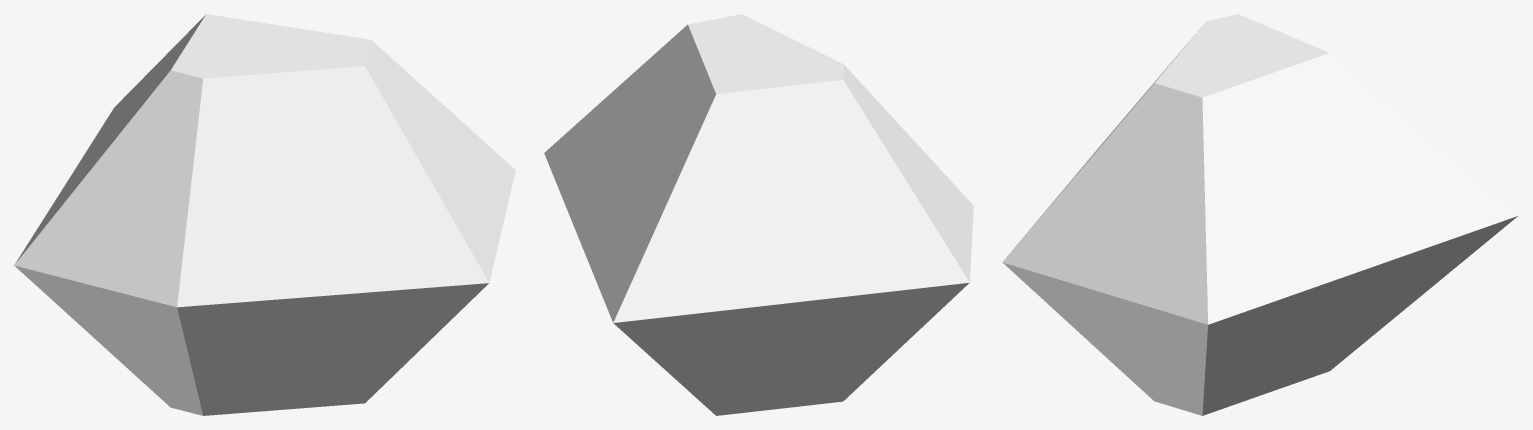
The model's file is asteroid3.glb.
3 renders of one model, left to right at view 1: azimuth 30°, elevation 25°; view 2: azimuth 150°, elevation 25°; view 3: azimuth 270°, elevation 25°, orthographic. The views are drawn at different scales.
Visible parts, largest first — view 1: mergedBlocks(Clone); view 2: mergedBlocks(Clone); view 3: mergedBlocks(Clone).
Boxes of the visible parts, box(x1,y1,x2,y2) form: mergedBlocks(Clone): box(14, 14, 515, 415); mergedBlocks(Clone): box(544, 14, 973, 415); mergedBlocks(Clone): box(1002, 14, 1518, 415).
Size of the model in its own units: 0.3608 by 0.2453 by 0.3608.
1 material, 1 textured.
